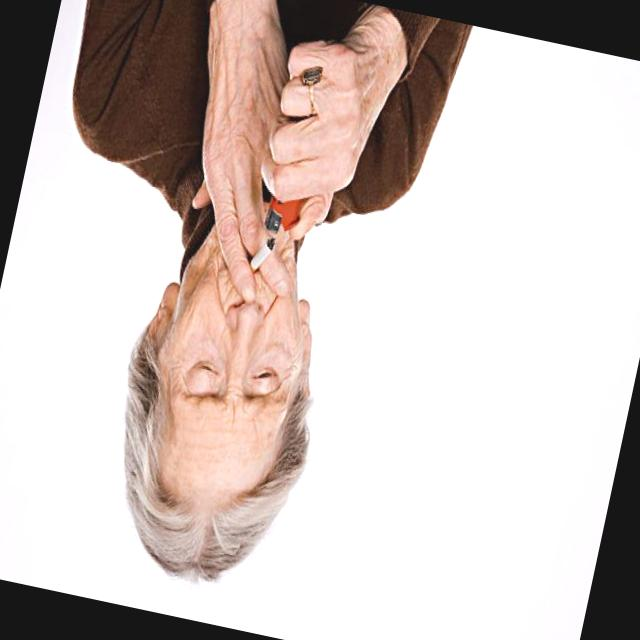smoke: (245, 218, 287, 284)
